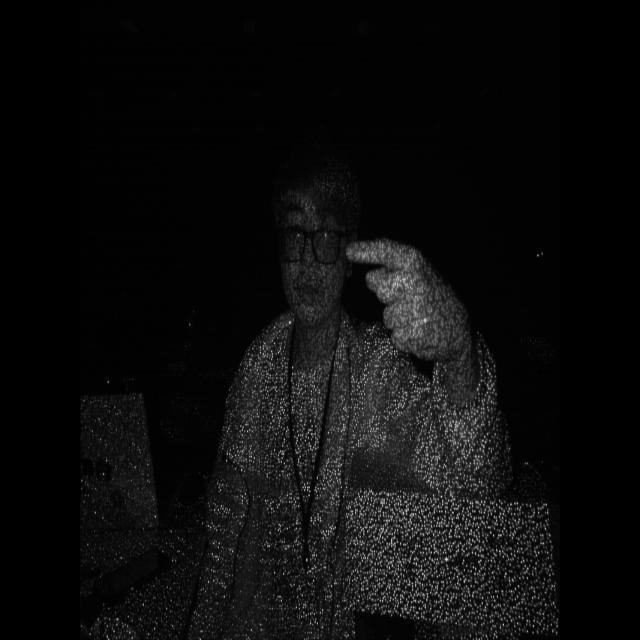G: (337, 221, 485, 371)
